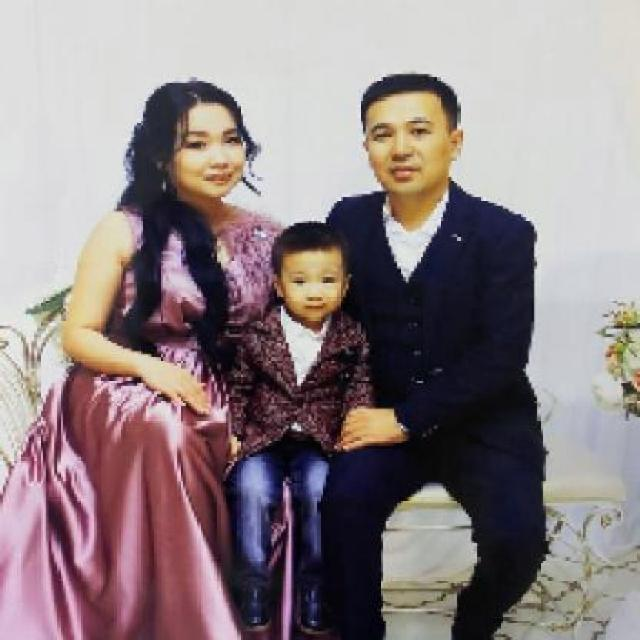child: (222, 220, 378, 637)
